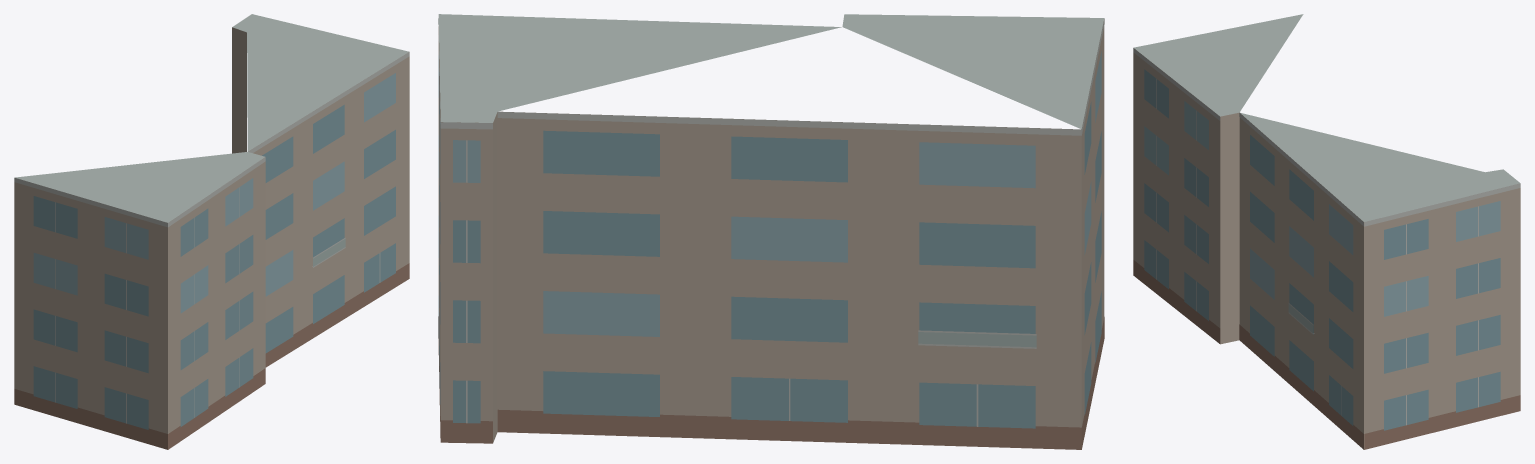
The model's file is survey-upis-32925476.glb.
3 renders of one model, left to right at view 1: azimuth 30°, elevation 25°; view 2: azimuth 150°, elevation 25°; view 3: azimuth 270°, elevation 25°, orthographic. The views are drawn at different scales.
Parts seen in each view (by area): view 1: survey-upis-32925476.tmp; view 2: survey-upis-32925476.tmp; view 3: survey-upis-32925476.tmp.
Boxes of the visible parts, <box> form: survey-upis-32925476.tmp: <box>14,14,409,449</box>; survey-upis-32925476.tmp: <box>438,14,1104,449</box>; survey-upis-32925476.tmp: <box>1133,14,1520,449</box>.
Bounding box in the file's own units: 23.93 × 12.2 × 18.82.
